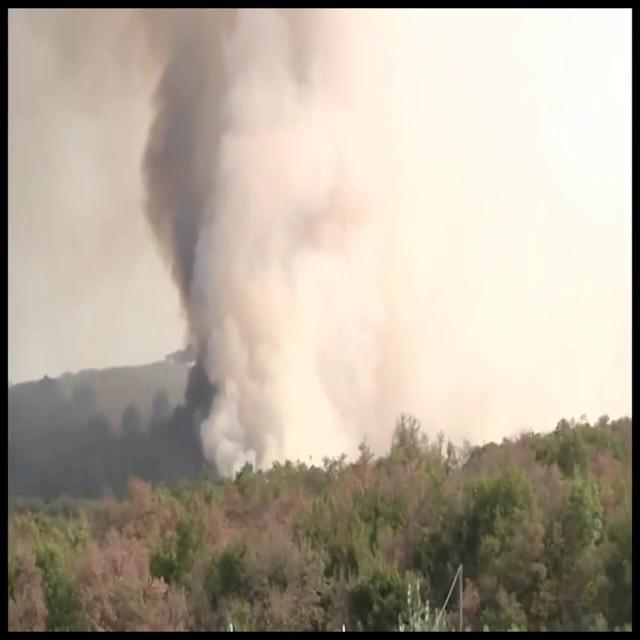Smoke: (39, 19, 625, 454)
